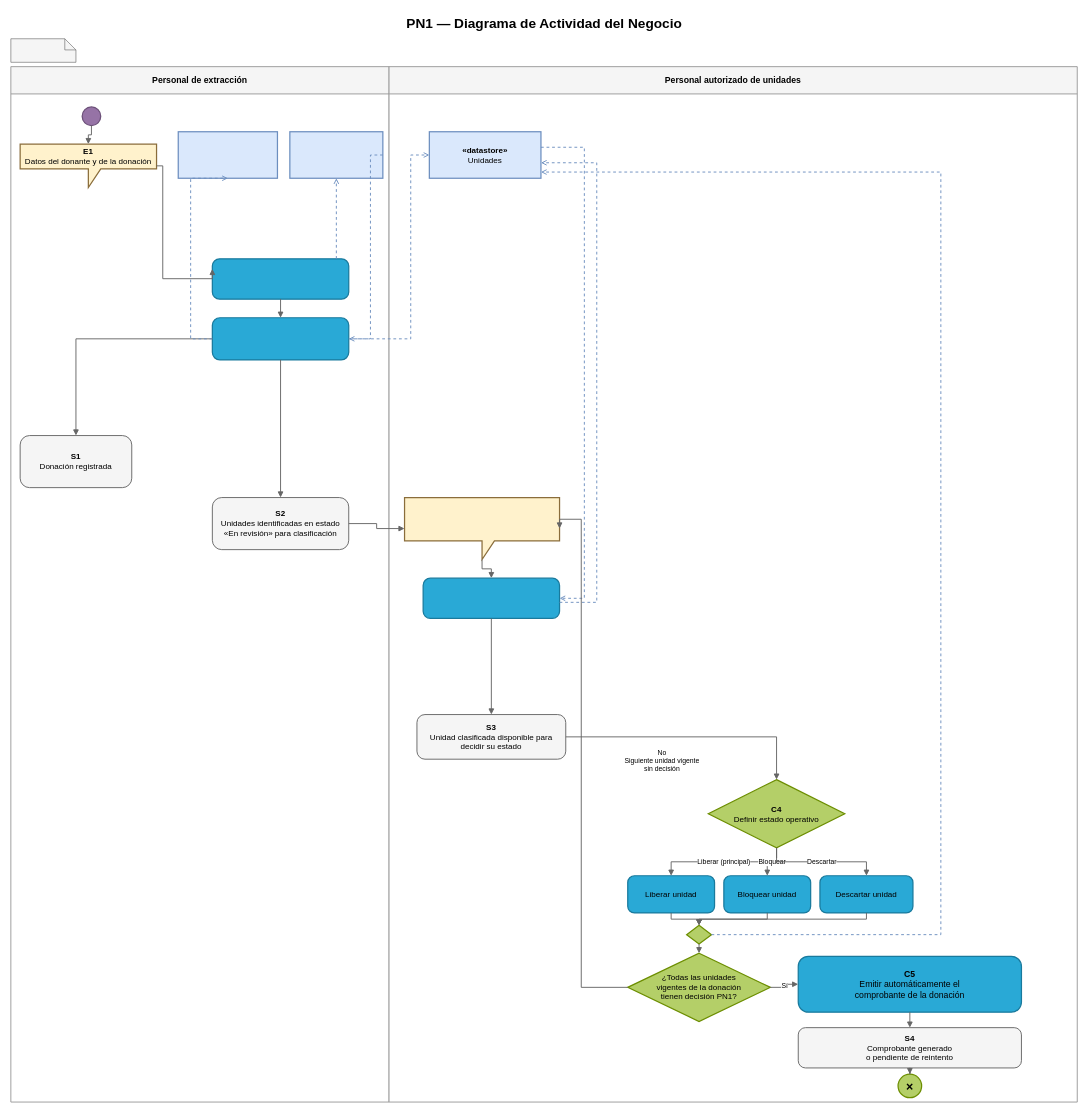
The diagram is 1089 pixels wide and 1113 high, and some of its shapes have lost their labels. The shapes that lost their labels are listed below. From the top down, each one's box as (x1, y1, x2, y2) in pixels, then its label:
(10, 38, 76, 62): DAN PN1
(177, 131, 278, 179): «datastore» Donaciones
(289, 131, 383, 179): «datastore» Donantes
(211, 258, 349, 299): C1 Registrar donante
(211, 317, 349, 360): C2 Registrar donación y generar unidades identificadas en estado «En revisión»
(404, 497, 560, 560): E2 Datos de clasificación y decisión de la unidad
(422, 577, 560, 619): C3 Cargar y validar la clasificación
